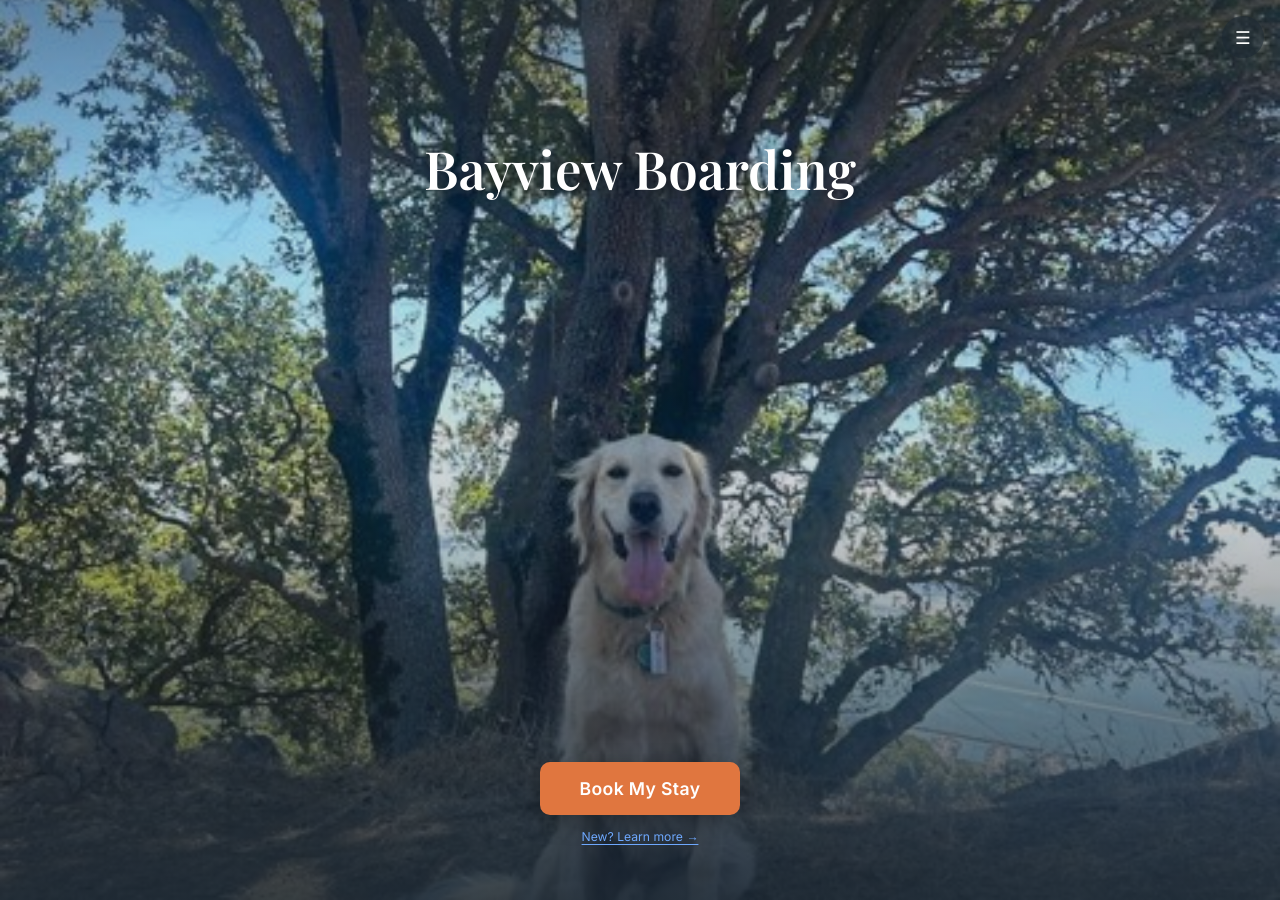
Scenario: Nav menu (hamburger) › "Submit Idea" opens the idea/bug form
The width and height of the screenshot is (1280, 900).
Click the button named "Open menu" at (1243, 37), box [1222,16,1264,58]
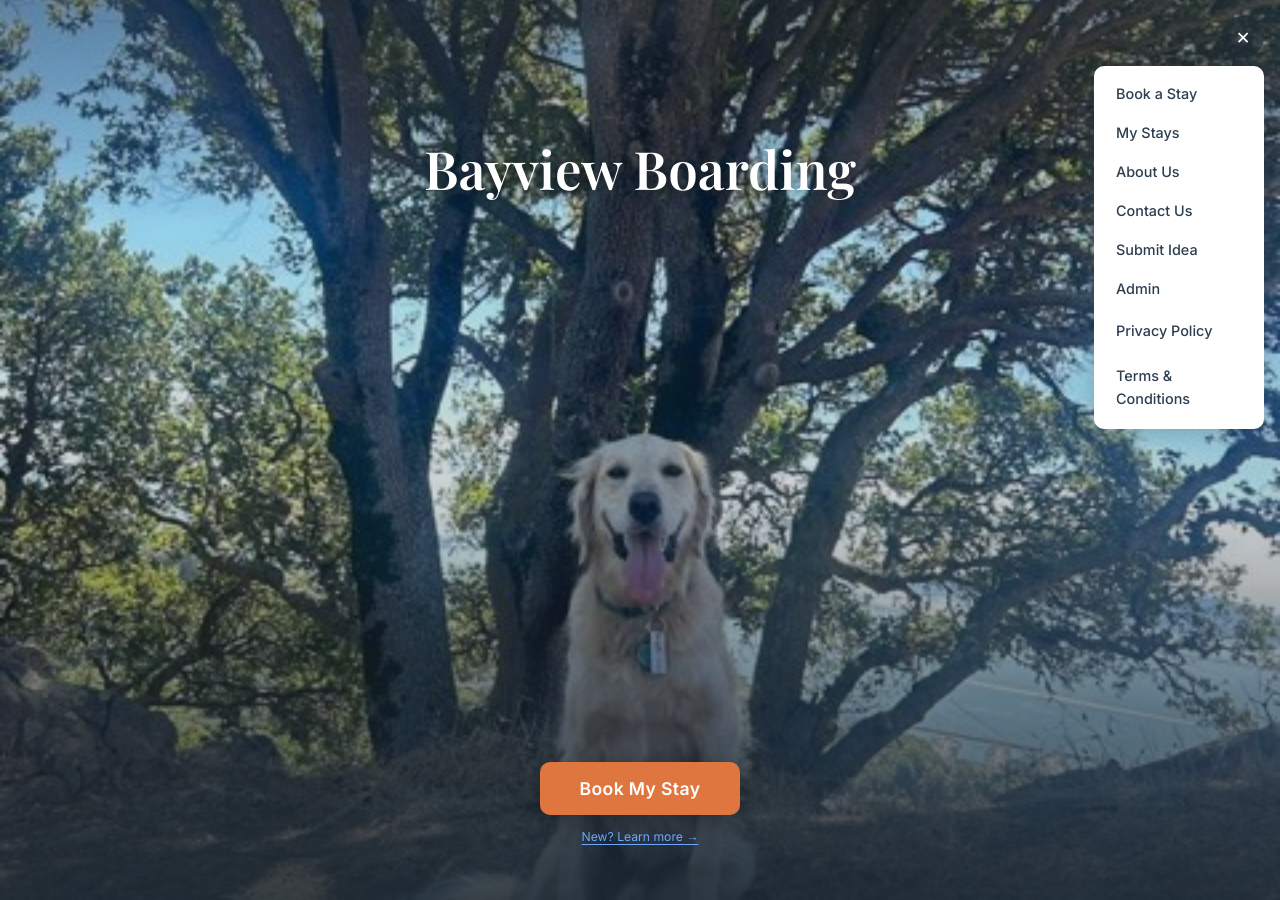
Click the button "Submit Idea" at (1179, 250), box [1102,230,1256,269]
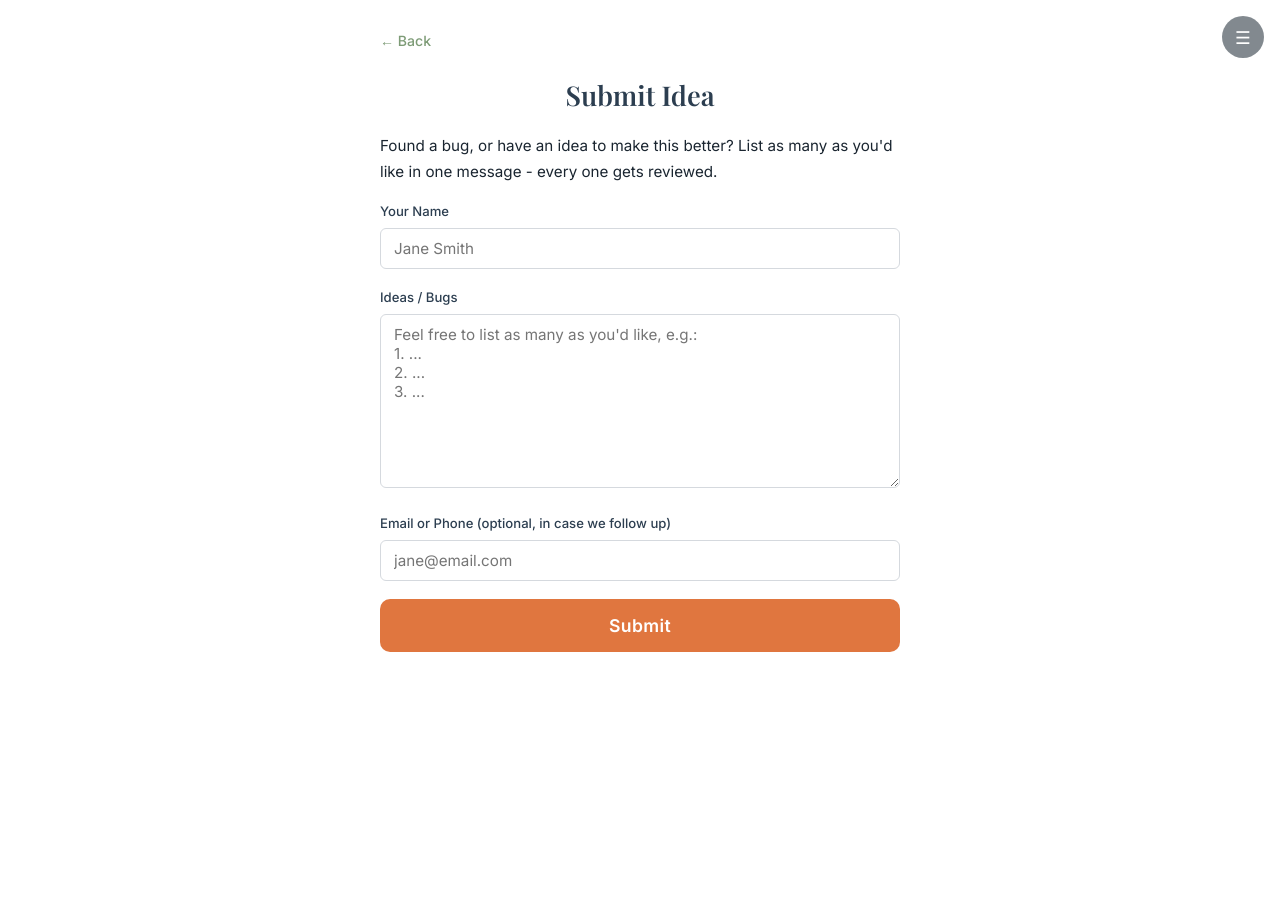
Now the heading "Submit Idea" is shown, box [565,77,714,113]
